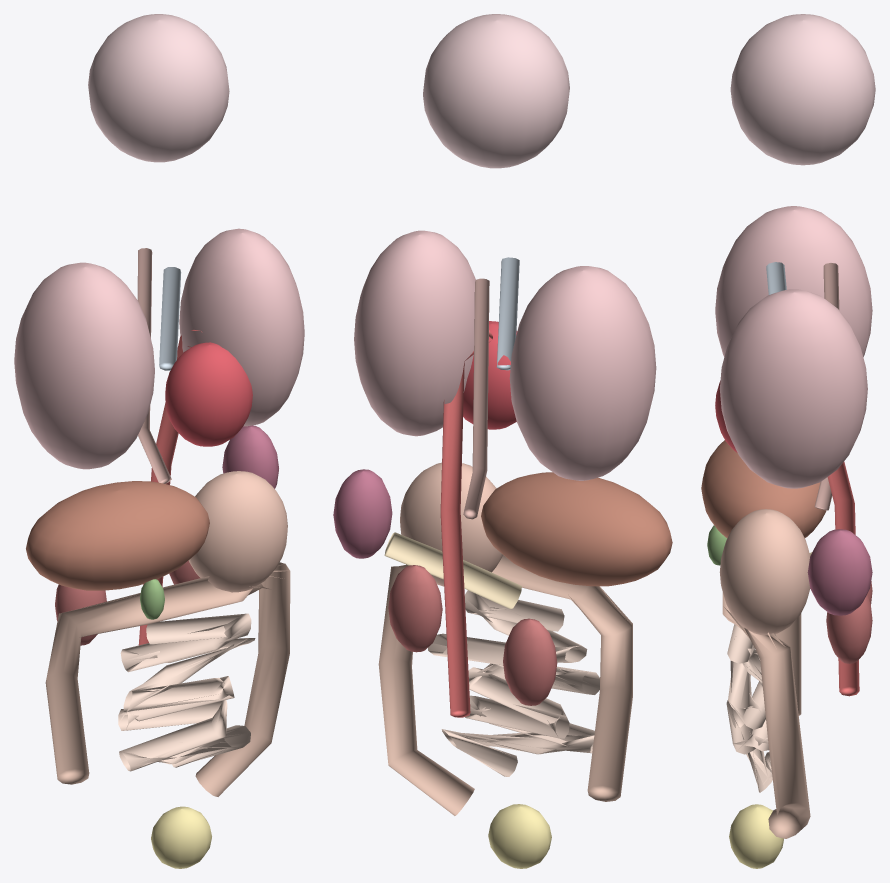
File: organs.glb
The picture shows the model from 3 angles, left to right: view 1: azimuth 30°, elevation 25°; view 2: azimuth 150°, elevation 25°; view 3: azimuth 270°, elevation 25°; orthographic projection. The views are drawn at different scales.
Visible parts, largest first — view 1: lung_r, large_intestine, brain, lung_l, liver, small_intestine, stomach, heart, bladder, spleen, esophagus, trachea (+3 smaller); view 2: lung_r, lung_l, brain, liver, large_intestine, small_intestine, aorta, stomach, spleen, kidney_r, kidney_l, esophagus (+4 smaller); view 3: lung_l, brain, lung_r, stomach, large_intestine, liver, small_intestine, spleen, bladder, kidney_l, aorta, esophagus (+3 smaller).
Boxes of the visible parts, <box> form: lung_r: <box>14,262,154,469</box>; large_intestine: <box>45,562,290,796</box>; brain: <box>88,14,229,162</box>; lung_l: <box>179,228,304,426</box>; liver: <box>26,481,209,590</box>; small_intestine: <box>118,613,255,771</box>; stomach: <box>188,471,287,592</box>; heart: <box>165,342,252,446</box>; bladder: <box>151,806,211,868</box>; spleen: <box>222,425,278,488</box>; esophagus: <box>137,248,171,483</box>; trachea: <box>159,267,181,370</box>; lung_r: <box>509,266,656,480</box>; lung_l: <box>354,230,475,436</box>; brain: <box>423,14,569,168</box>; liver: <box>481,472,672,586</box>; large_intestine: <box>378,555,632,815</box>; small_intestine: <box>428,590,599,776</box>; aorta: <box>440,330,492,717</box>; stomach: <box>400,462,502,586</box>; spleen: <box>333,469,392,558</box>; kidney_r: <box>503,618,557,705</box>; kidney_l: <box>388,565,442,652</box>; esophagus: <box>463,278,489,519</box>; lung_l: <box>719,289,867,488</box>; brain: <box>730,14,875,165</box>; lung_r: <box>715,206,872,356</box>; stomach: <box>719,509,810,635</box>; large_intestine: <box>722,592,810,838</box>; liver: <box>701,440,826,537</box>; small_intestine: <box>726,624,777,792</box>; spleen: <box>807,529,872,615</box>; bladder: <box>729,804,783,868</box>; kidney_l: <box>826,595,872,663</box>; aorta: <box>827,461,859,696</box>; esophagus: <box>814,263,839,510</box>.
Size of what is drawn, in the model's own units: 0.355 by 1.01 by 0.1884.
